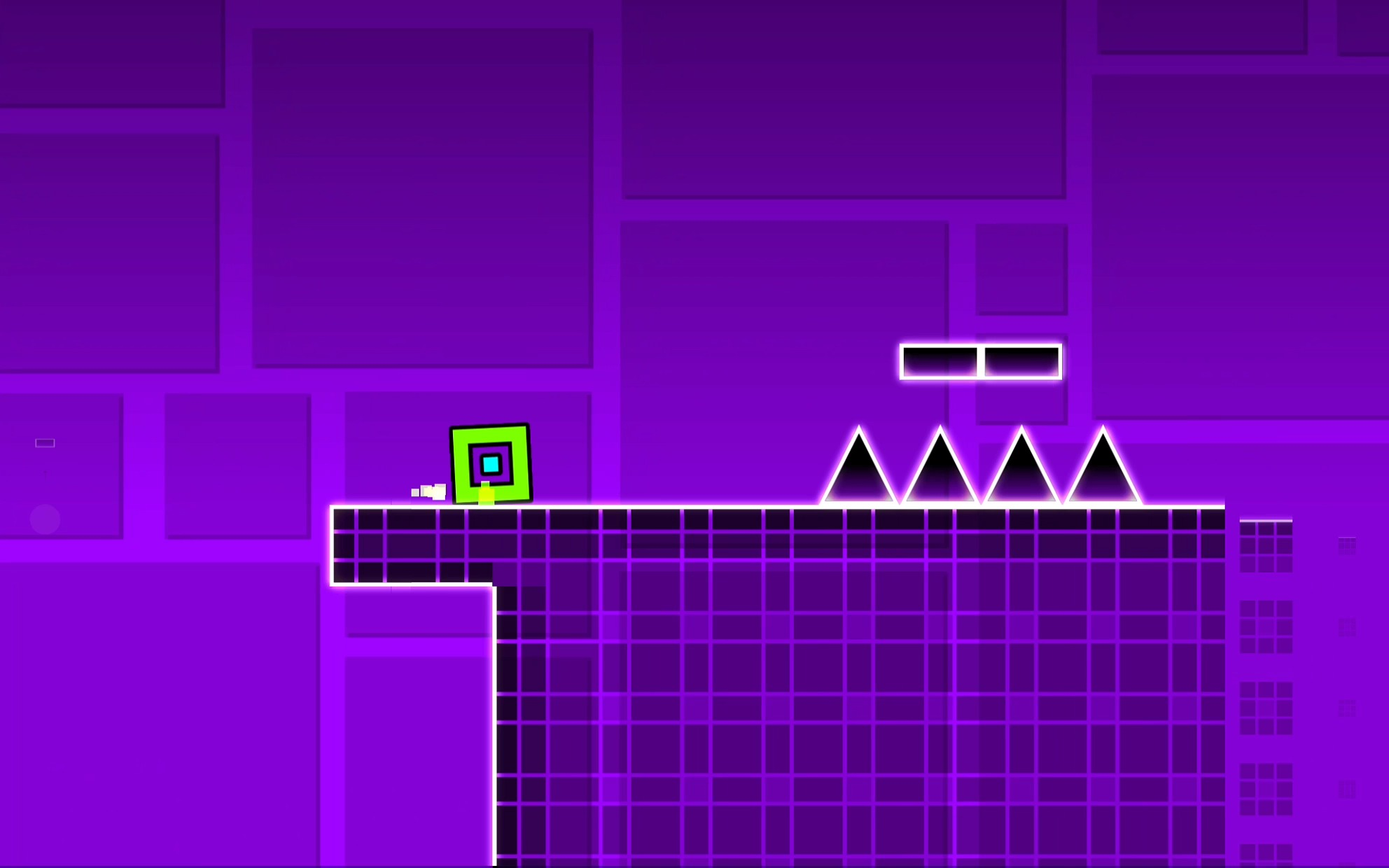Block2: (495, 505, 1298, 868), (330, 505, 493, 583)
Block3: (978, 347, 1064, 381), (893, 344, 977, 378)
Player: (447, 424, 531, 502)
Spike: (1066, 426, 1141, 503), (821, 426, 894, 502), (905, 426, 976, 502), (987, 429, 1057, 501)
